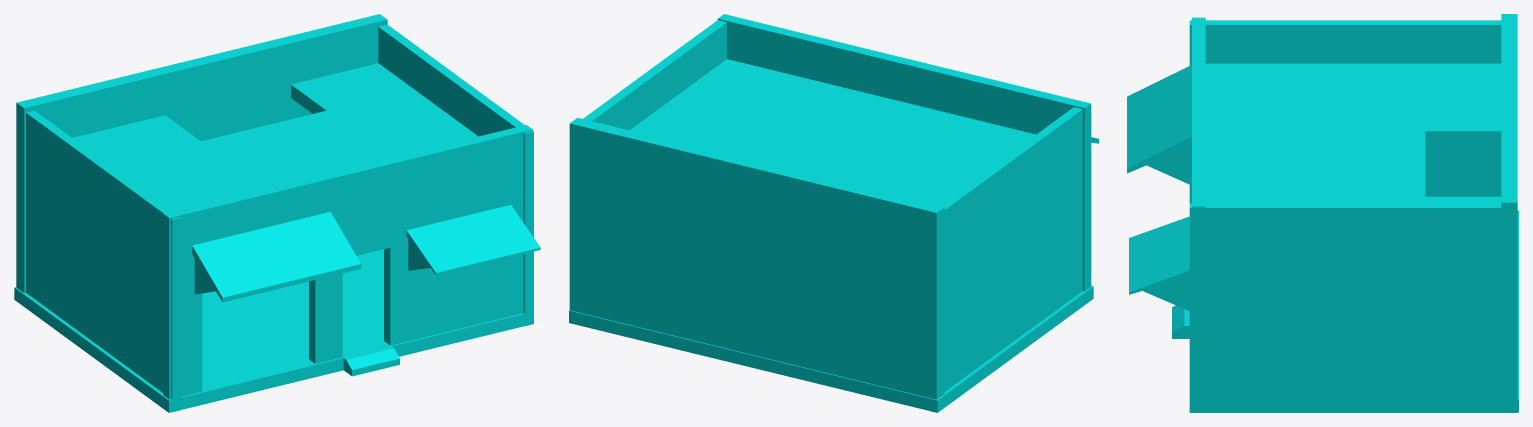
File: SM_Bld_Building_02_Collision.fbx
The picture shows the model from 3 angles, left to right: view 1: azimuth 30°, elevation 25°; view 2: azimuth 150°, elevation 25°; view 3: azimuth 270°, elevation 25°; orthographic projection. The views are drawn at different scales.
Visible parts, largest first — view 1: SM_Bld_Building_02_Collision; view 2: SM_Bld_Building_02_Collision; view 3: SM_Bld_Building_02_Collision.
Boxes of the visible parts, bbox=[...] form: SM_Bld_Building_02_Collision: bbox=[14, 14, 540, 412]; SM_Bld_Building_02_Collision: bbox=[569, 14, 1098, 412]; SM_Bld_Building_02_Collision: bbox=[1127, 14, 1518, 412].
Size of the model in its own units: 763 by 394 by 667.
